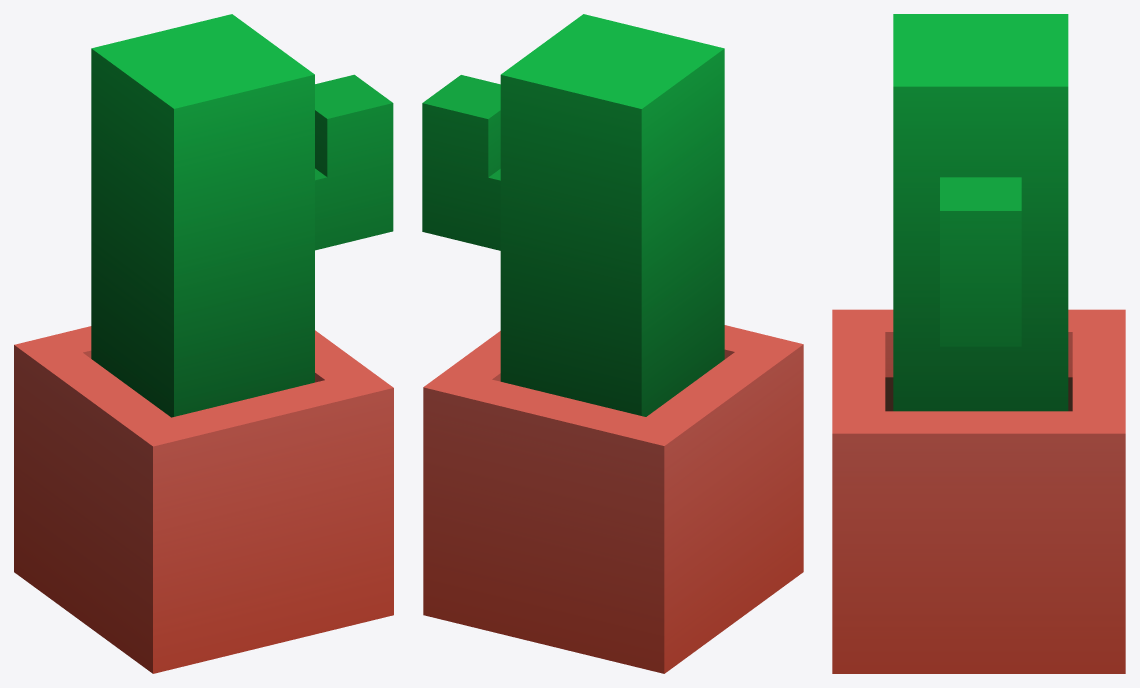
Rendered from Cactus2_wFlowerPot_brownpot.fbx.
The picture shows the model from 3 angles, left to right: view 1: azimuth 30°, elevation 25°; view 2: azimuth 150°, elevation 25°; view 3: azimuth 270°, elevation 25°; orthographic projection. The views are drawn at different scales.
Parts seen in each view (by area): view 1: Cactus2_wFlowerPot.brownpot; view 2: Cactus2_wFlowerPot.brownpot; view 3: Cactus2_wFlowerPot.brownpot.
Boxes of the visible parts, x1,y1,x2,y2 form: Cactus2_wFlowerPot.brownpot: (14, 14, 393, 673); Cactus2_wFlowerPot.brownpot: (422, 14, 803, 673); Cactus2_wFlowerPot.brownpot: (832, 14, 1125, 673).
Bounding box in the file's own units: 30.22 × 52.75 × 25.
